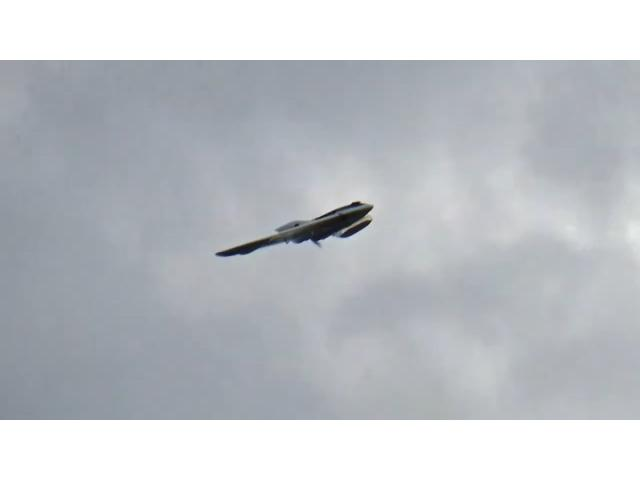Anti-Drone: (214, 199, 374, 257)
